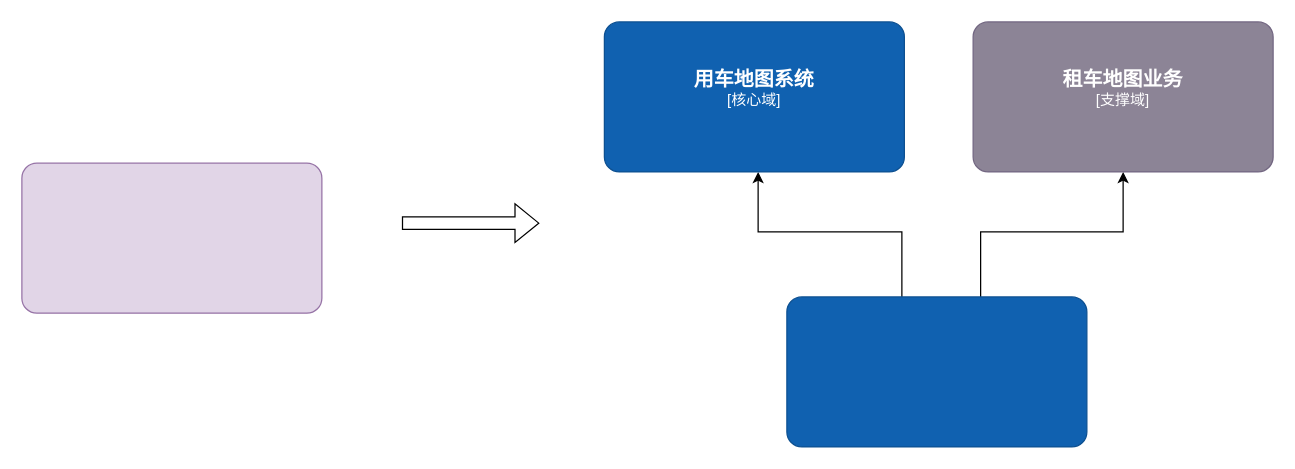
Some shapes in this 1295 by 469 pixel diagram are drawn without their labels. The centre of each missing label's shape, as x and y in pixels:
"两车地图解决方案 [支撑域]" goes at point 936,371.
"用车地图服务+用车订单逻辑 [改造前]" goes at point 171,237.
